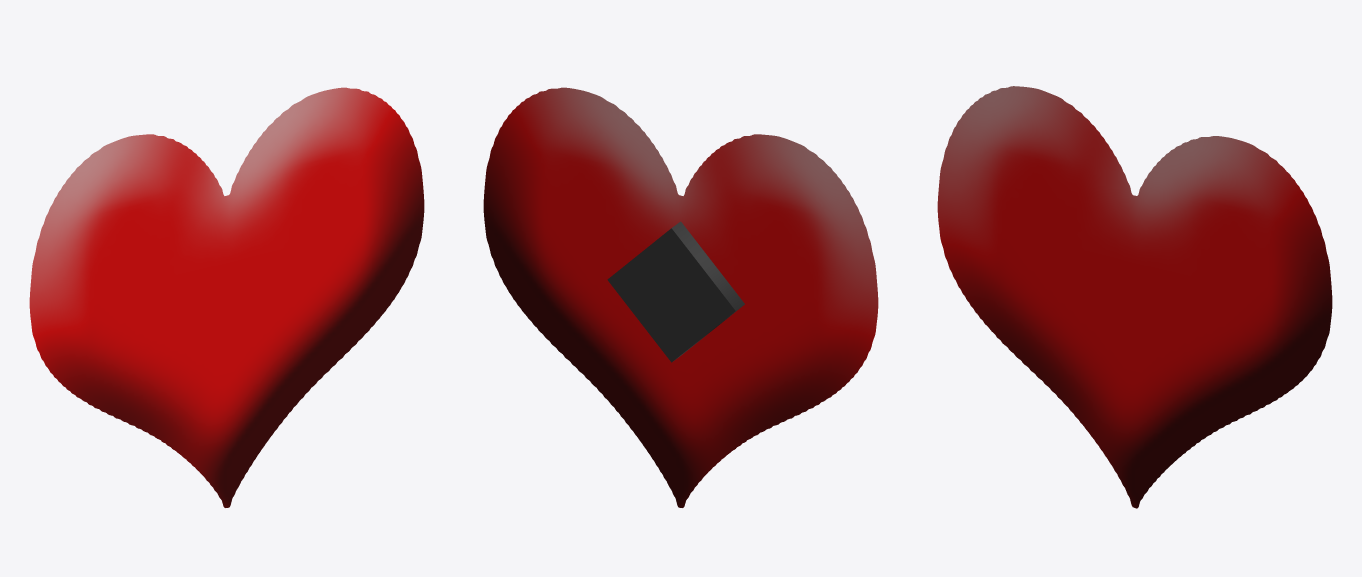
File: Magnet_A.FBX
The picture shows the model from 3 angles, left to right: view 1: azimuth 30°, elevation 25°; view 2: azimuth 150°, elevation 25°; view 3: azimuth 330°, elevation 25°; orthographic projection.
Parts seen in each view (by area): view 1: Fridge_Magnet; view 2: Fridge_Magnet; view 3: Fridge_Magnet.
Part boxes in pixels (x1,y1,x2,y2): Fridge_Magnet: (29,87,424,507); Fridge_Magnet: (483,87,878,507); Fridge_Magnet: (937,86,1332,508).
Bounding box in the file's own units: 25 × 25 × 0.9737.
